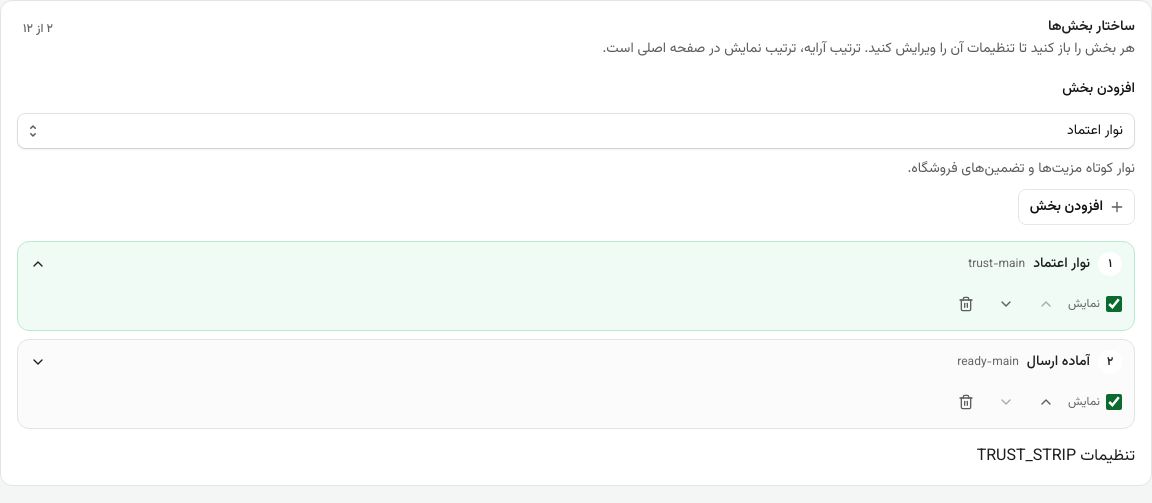
it: HomepageSectionAccordion › keeps one selected region in the DOM and exposes it from the active header
Expected: the text "تنظیمات TRUST_STRIP" is shown, [977,444,1135,469]
Expected: the text "تنظیمات READY_TO_SHIP" is not shown
Click the button "۲ آماده ارسال ready-main".
click(1058, 362)  # box [18,340,1134,384]
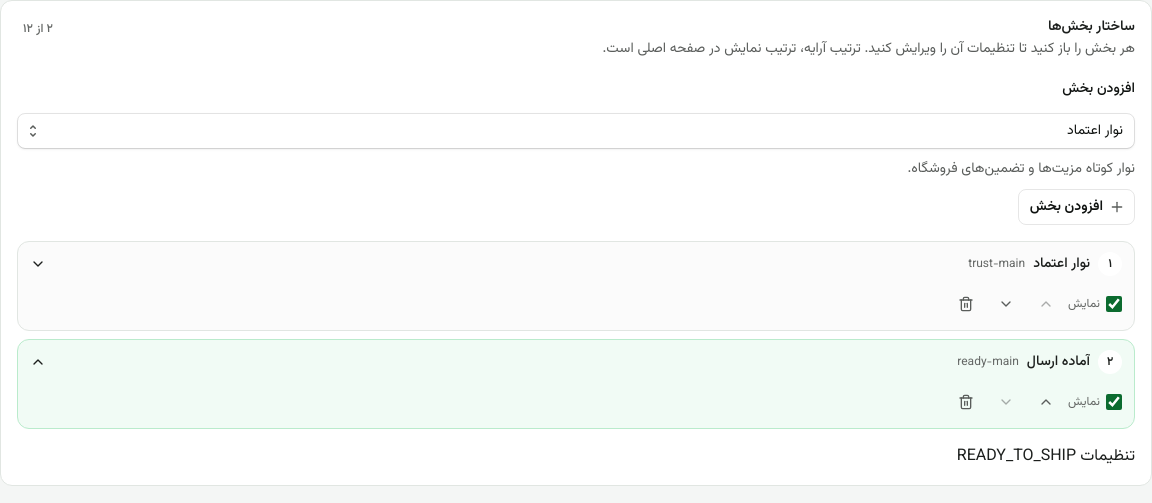
Expected: the button "۱ نوار اعتماد trust-main" is collapsed, [18,242,1134,286]
Expected: the button "۲ آماده ارسال ready-main" is expanded
Expected: the text "تنظیمات READY_TO_SHIP" is shown, [957,444,1135,469]
Click the button "۲ آماده ارسال ready-main".
click(1058, 362)  # box [18,340,1134,384]
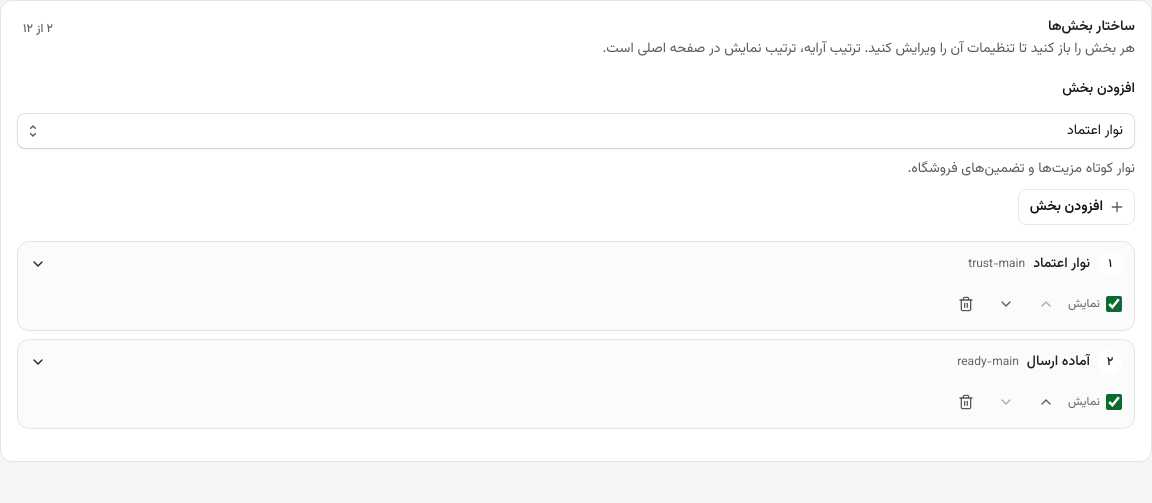
Expected: the button "۲ آماده ارسال ready-main" is collapsed, [18,340,1134,384]
